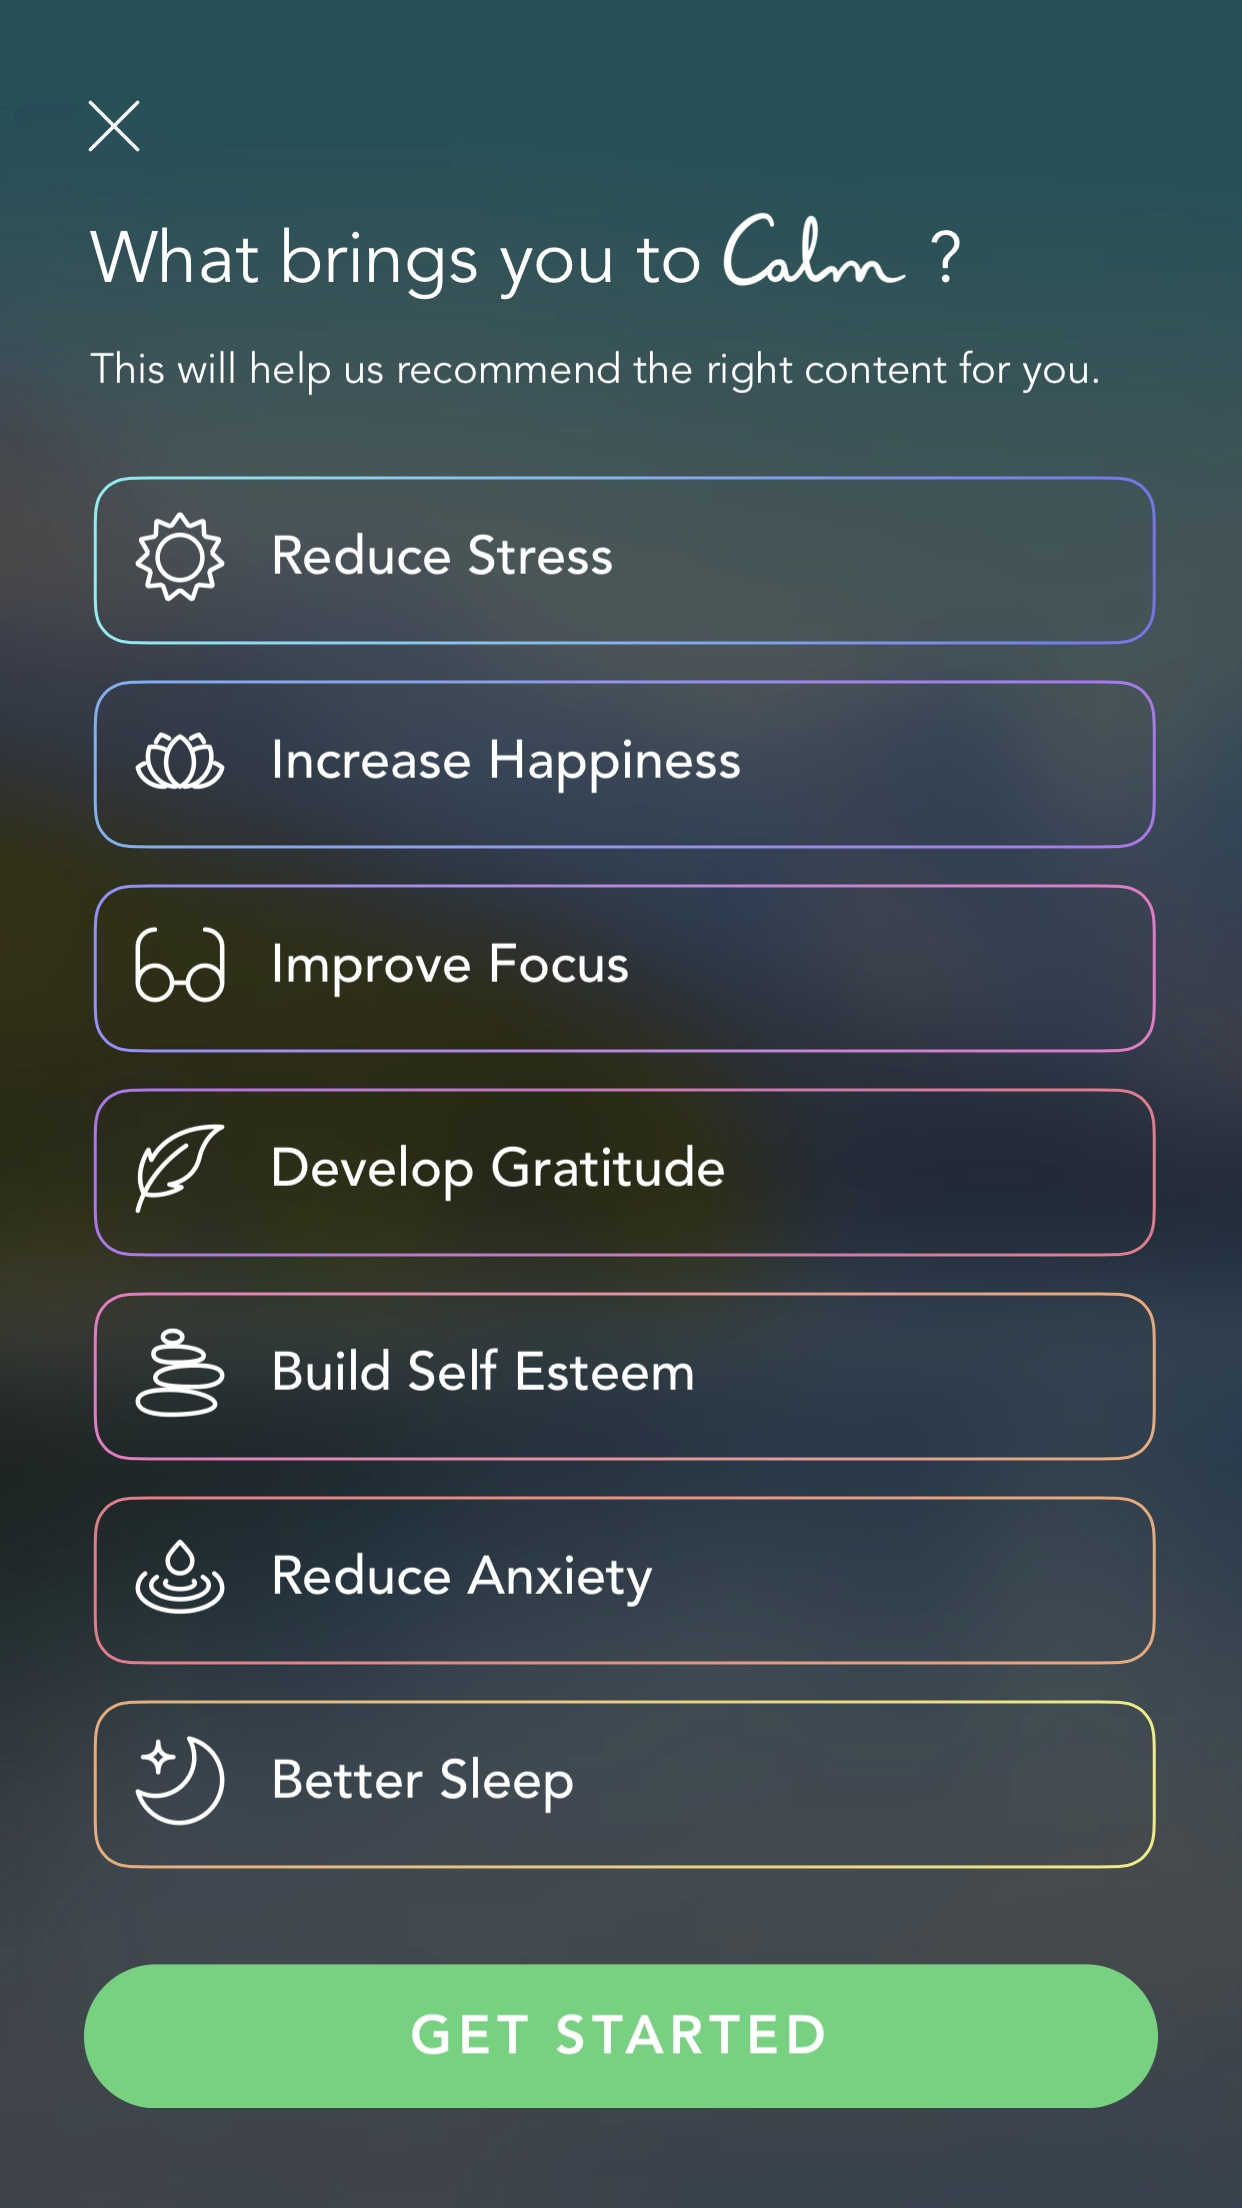Icon: (136, 513, 224, 602), (89, 100, 143, 155)
Image: (136, 1736, 226, 1826), (136, 1124, 224, 1215), (136, 1328, 224, 1416), (136, 928, 226, 1002), (136, 1541, 226, 1614), (136, 732, 224, 792)
Text: (89, 212, 961, 300), (89, 350, 1099, 396)
TextButton: (93, 1495, 1157, 1667), (93, 1291, 1157, 1462), (93, 1087, 1157, 1259), (94, 1698, 1157, 1870), (94, 883, 1157, 1054), (94, 679, 1157, 851), (94, 476, 1157, 645), (83, 1962, 1159, 2109)
